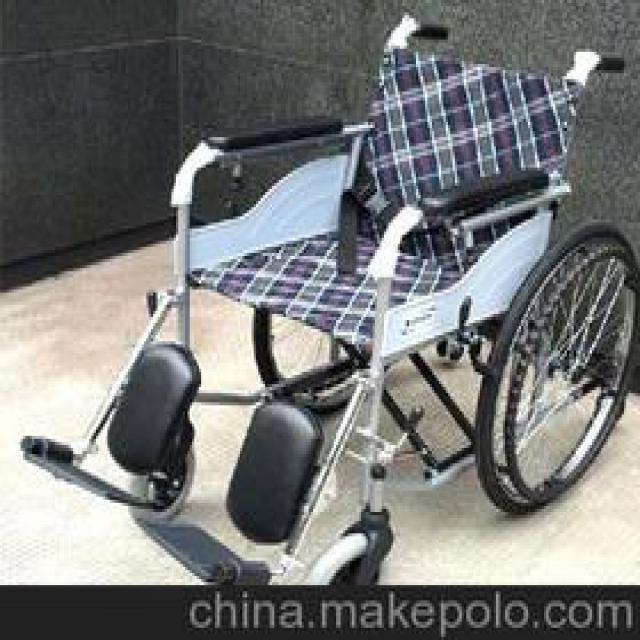wheelchairs: (45, 19, 638, 585)
